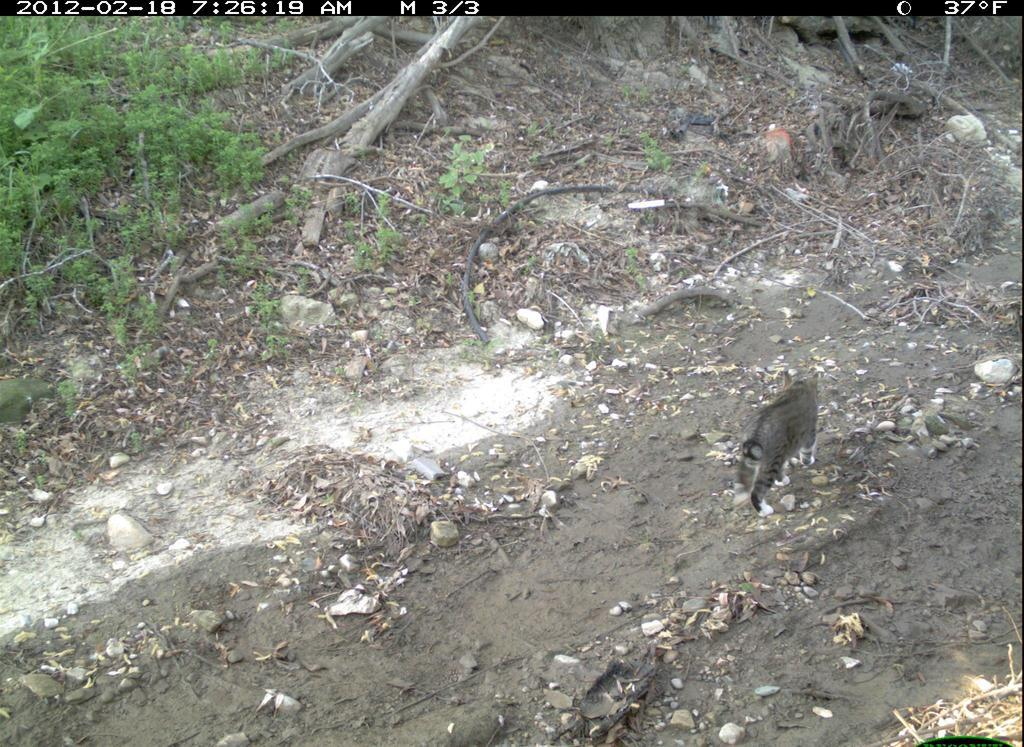cat: (731, 363, 852, 521)
